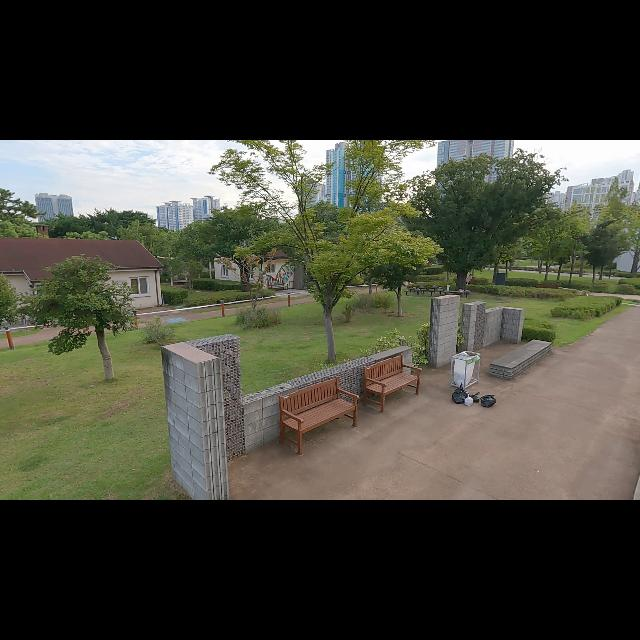trash: (452, 382, 470, 404), (479, 394, 499, 408), (464, 395, 474, 407), (470, 392, 480, 403)
